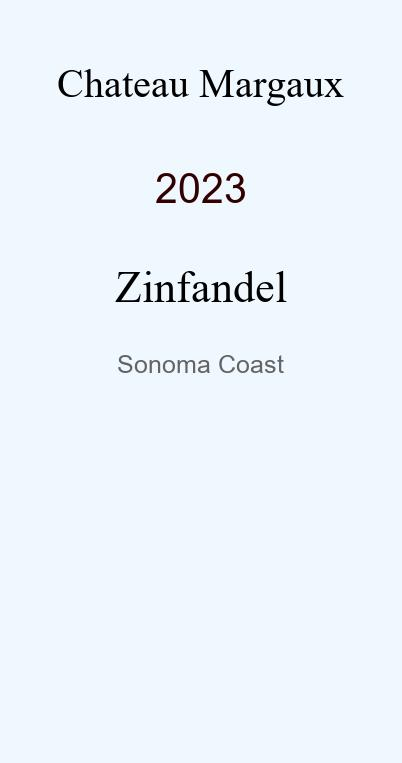brand: (57, 61, 344, 98)
region: (117, 350, 284, 368)
variety: (115, 262, 287, 293)
vintage: (155, 165, 247, 195)
